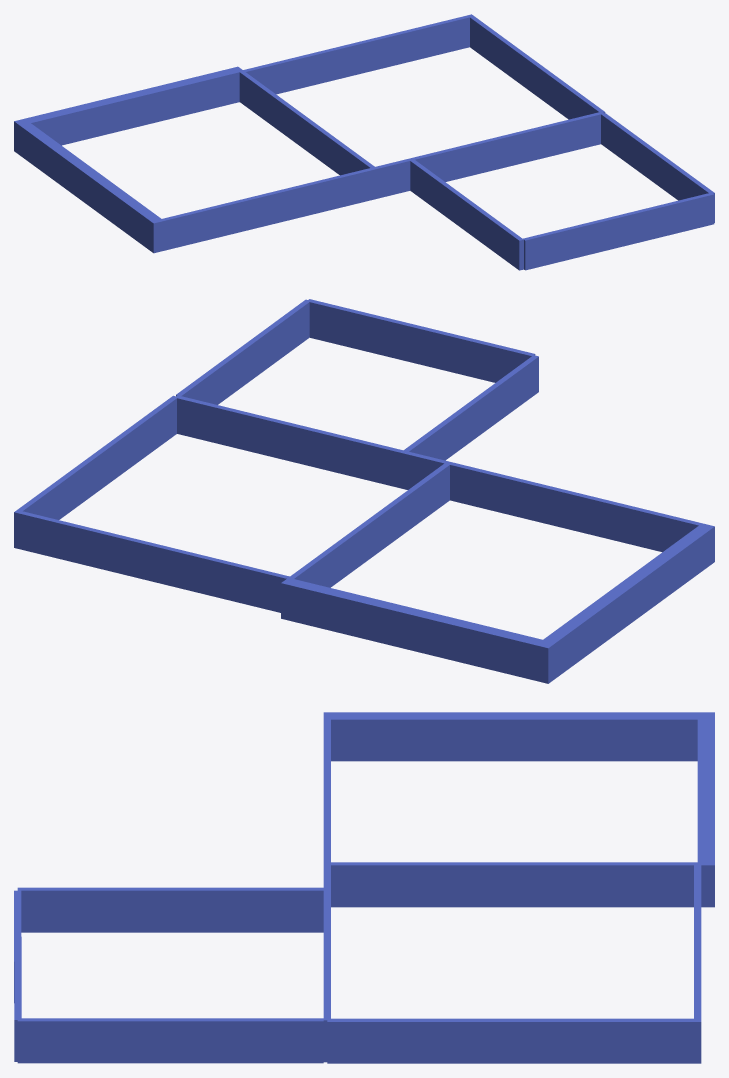
The model's file is duvarlar_ek.fbx.
3 renders of one model, top to bottom at view 1: azimuth 30°, elevation 25°; view 2: azimuth 150°, elevation 25°; view 3: azimuth 270°, elevation 25°, orthographic. The views are drawn at different scales.
Parts seen in each view (by area): view 1: yatakodasi_duvar.011, mutfak_duvar.011, yatakodasi_duvar.010, mutfak_duvar.020, yatakodasi_duvar.007, mutfak_duvar.012, mutfak_duvar.016, mutfak_duvar.014, mutfak_duvar.013, yatakodasi_duvar.008, mutfak_duvar.017, mutfak_duvar.018 (+4 smaller); view 2: yatakodasi_duvar.011, mutfak_duvar.011, yatakodasi_duvar.010, mutfak_duvar.020, yatakodasi_duvar.007, mutfak_duvar.012, mutfak_duvar.016, mutfak_duvar.014, yatakodasi_duvar.008, mutfak_duvar.013, mutfak_duvar.017, mutfak_duvar.015 (+4 smaller); view 3: yatakodasi_duvar.007, mutfak_duvar.012, mutfak_duvar.016, yatakodasi_duvar.008, mutfak_duvar.017, yatakodasi_duvar.006, mutfak_duvar.018, yatakodasi_duvar.009, mutfak_duvar.019, yatakodasi_duvar.011, mutfak_duvar.011, mutfak_duvar.020 (+2 smaller).
Boxes of the visible parts, left/top/right/bottom form: yatakodasi_duvar.011: left=14, top=67, right=239, bottom=155; mutfak_duvar.011: left=241, top=14, right=473, bottom=94; yatakodasi_duvar.010: left=162, top=168, right=373, bottom=250; mutfak_duvar.020: left=523, top=193, right=714, bottom=270; yatakodasi_duvar.007: left=20, top=123, right=164, bottom=253; mutfak_duvar.012: left=470, top=16, right=605, bottom=119; mutfak_duvar.016: left=601, top=113, right=714, bottom=222; mutfak_duvar.014: left=505, top=112, right=603, bottom=166; mutfak_duvar.013: left=375, top=145, right=468, bottom=198; yatakodasi_duvar.008: left=295, top=111, right=377, bottom=199; mutfak_duvar.017: left=409, top=159, right=464, bottom=227; mutfak_duvar.018: left=483, top=213, right=523, bottom=270; yatakodasi_duvar.011: left=286, top=579, right=555, bottom=683; mutfak_duvar.011: left=14, top=510, right=292, bottom=612; yatakodasi_duvar.010: left=450, top=462, right=701, bottom=552; mutfak_duvar.020: left=308, top=299, right=535, bottom=382; yatakodasi_duvar.007: left=543, top=523, right=714, bottom=678; mutfak_duvar.012: left=17, top=395, right=177, bottom=519; mutfak_duvar.016: left=176, top=299, right=310, bottom=404; mutfak_duvar.014: left=176, top=395, right=292, bottom=461; yatakodasi_duvar.008: left=355, top=461, right=452, bottom=565; mutfak_duvar.013: left=336, top=435, right=447, bottom=489; mutfak_duvar.017: left=402, top=406, right=469, bottom=460; mutfak_duvar.015: left=290, top=423, right=339, bottom=472; yatakodasi_duvar.007: left=323, top=712, right=697, bottom=761; mutfak_duvar.012: left=327, top=1018, right=693, bottom=1063; mutfak_duvar.016: left=17, top=1018, right=323, bottom=1063; yatakodasi_duvar.008: left=323, top=862, right=542, bottom=907; mutfak_duvar.017: left=180, top=887, right=327, bottom=932; yatakodasi_duvar.006: left=605, top=862, right=714, bottom=907; mutfak_duvar.018: left=17, top=887, right=117, bottom=932; yatakodasi_duvar.009: left=542, top=862, right=605, bottom=907; mutfak_duvar.019: left=117, top=887, right=180, bottom=932; yatakodasi_duvar.011: left=697, top=712, right=714, bottom=862; mutfak_duvar.011: left=694, top=864, right=701, bottom=1063; mutfak_duvar.020: left=14, top=890, right=21, bottom=1061.
Bounding box in the file's own units: 19.8 × 1.25 × 18.94.
